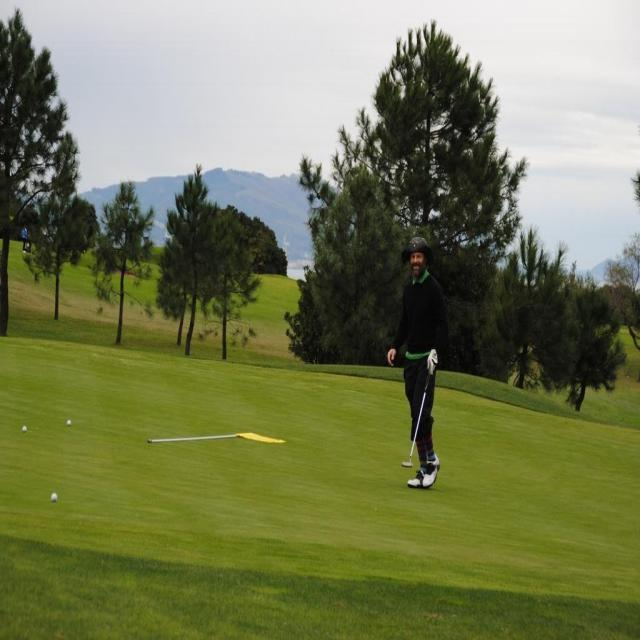golfball: (50, 492, 58, 503), (22, 425, 27, 435), (66, 420, 72, 428)
